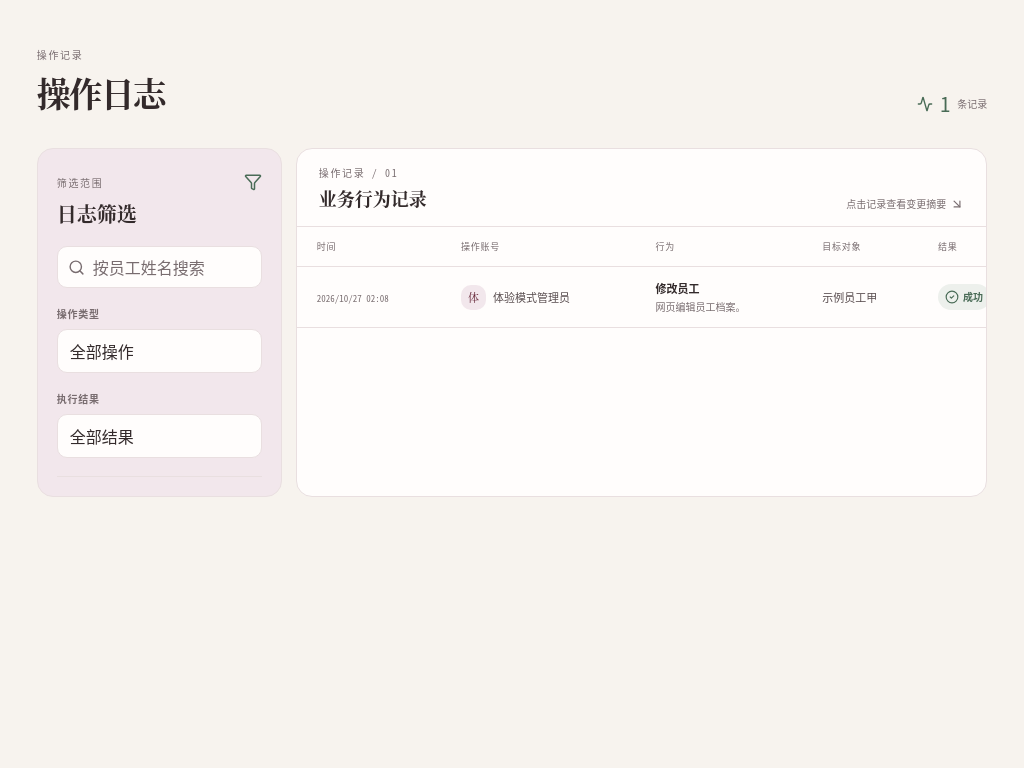
AuditPage filters › renders readable business changes instead of raw audit snapshots
Step 1. Click the button with class "audit-action-button" → (701, 297), box [656,280,746,314]
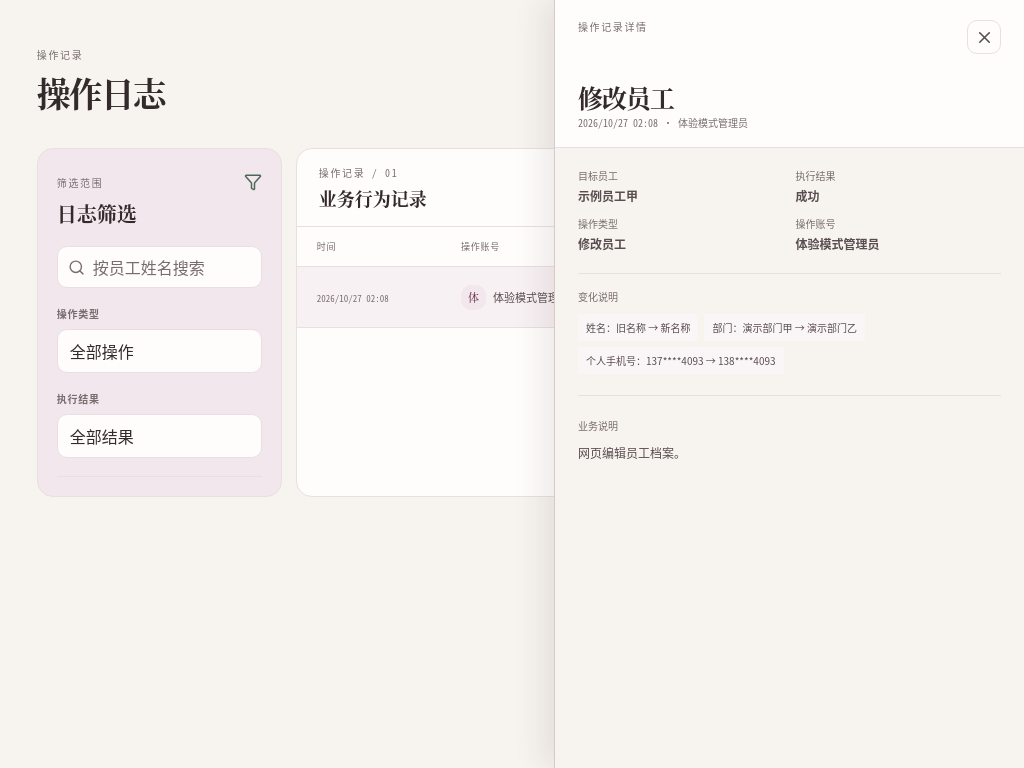
Check: the element with class "audit-detail-drawer" is shown, box [554,0,1023,767]
Check: the text "变化说明" is shown, box [578,289,618,304]
Check: the element with class "audit-detail-drawer" shows "部门：演示部门甲 → 演示部门乙", box [712,320,857,335]
